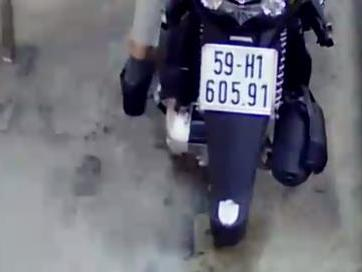num_plate: (196, 40, 282, 119)
